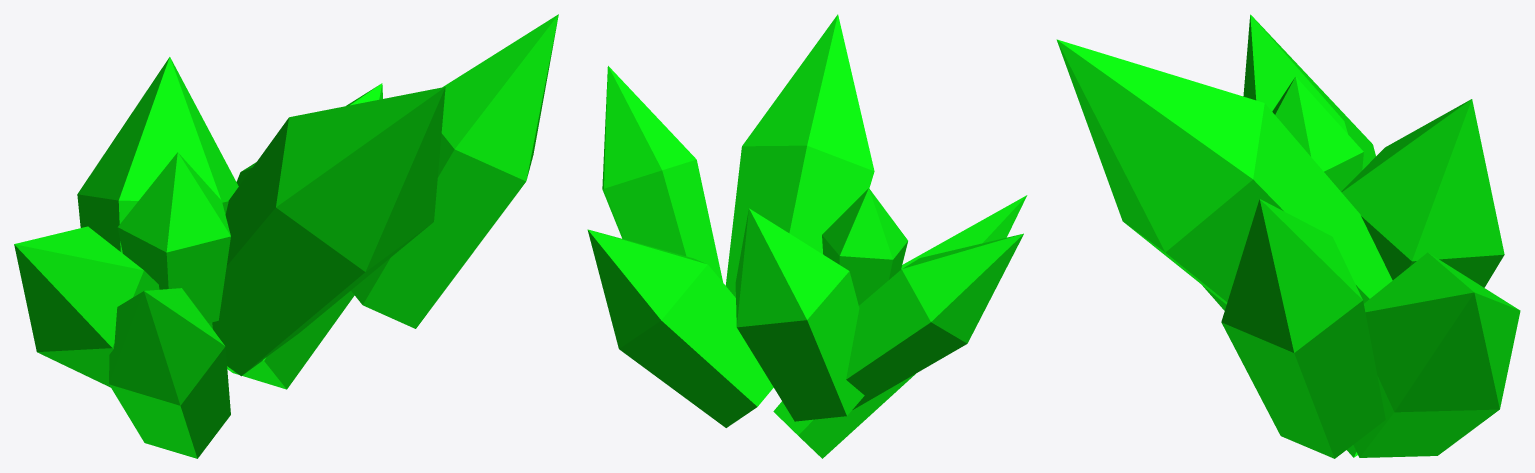
The model's file is assets_crystal-03.fbx.
3 renders of one model, left to right at view 1: azimuth 30°, elevation 25°; view 2: azimuth 150°, elevation 25°; view 3: azimuth 270°, elevation 25°, orthographic. The views are drawn at different scales.
Parts seen in each view (by area): view 1: Cylinder062, Cylinder064, Cylinder060, Cylinder058, Cylinder055, Cylinder065, Cylinder063; view 2: Cylinder062, Cylinder063, Cylinder055, Cylinder058, Cylinder064, Cylinder065, Cylinder060; view 3: Cylinder062, Cylinder064, Cylinder063, Cylinder055, Cylinder065, Cylinder058.
Part boxes in pixels (bbox=[...]): Cylinder062: bbox=[212, 87, 445, 376]; Cylinder064: bbox=[351, 14, 558, 328]; Cylinder060: bbox=[109, 288, 230, 458]; Cylinder058: bbox=[14, 226, 159, 387]; Cylinder055: bbox=[77, 57, 238, 328]; Cylinder065: bbox=[117, 152, 230, 323]; Cylinder063: bbox=[227, 83, 382, 389]; Cylinder062: bbox=[725, 14, 874, 297]; Cylinder063: bbox=[587, 229, 773, 427]; Cylinder055: bbox=[735, 208, 864, 421]; Cylinder058: bbox=[846, 233, 1023, 409]; Cylinder064: bbox=[602, 66, 722, 281]; Cylinder065: bbox=[822, 188, 907, 305]; Cylinder060: bbox=[773, 195, 1027, 458]; Cylinder062: bbox=[1056, 39, 1392, 304]; Cylinder064: bbox=[1221, 199, 1385, 458]; Cylinder063: bbox=[1353, 252, 1520, 457]; Cylinder055: bbox=[1341, 99, 1504, 287]; Cylinder065: bbox=[1272, 76, 1363, 191]; Cylinder058: bbox=[1243, 14, 1375, 169].
Bounding box in the file's own units: 0.5156 × 0.4029 × 0.3577.
